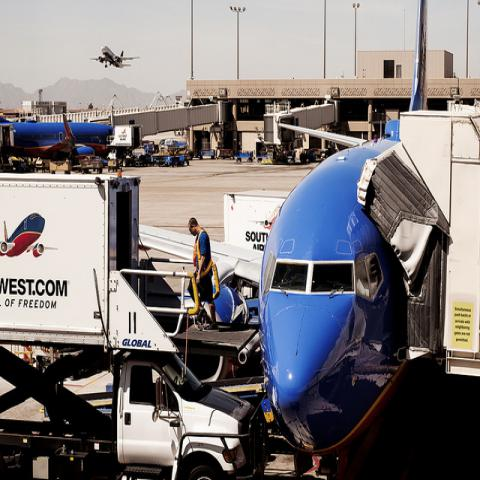car: (142, 139, 156, 154)
truck: (0, 170, 199, 356), (0, 342, 269, 478), (214, 190, 290, 250), (110, 124, 142, 149)
